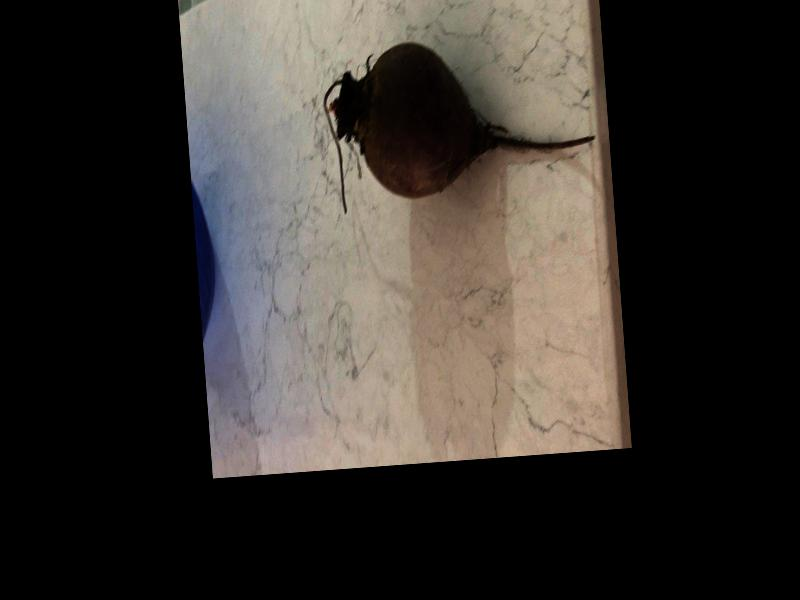Beet: (318, 31, 598, 215)
